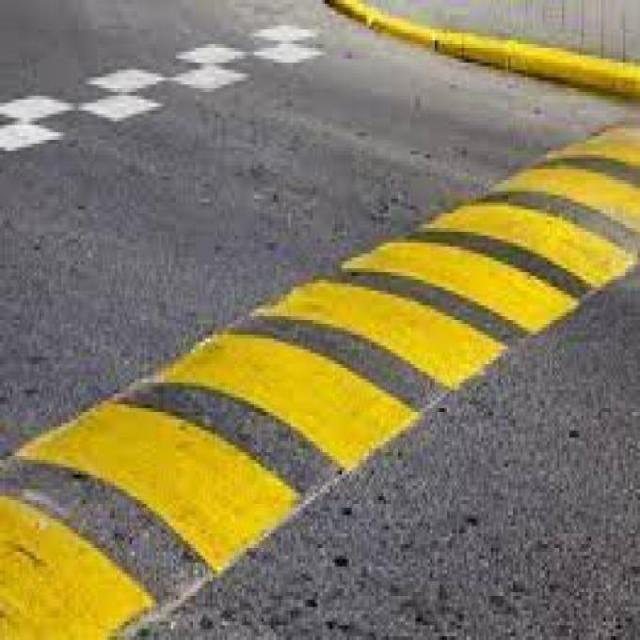Speed_Breaker: (0, 81, 640, 640), (3, 108, 639, 639)
